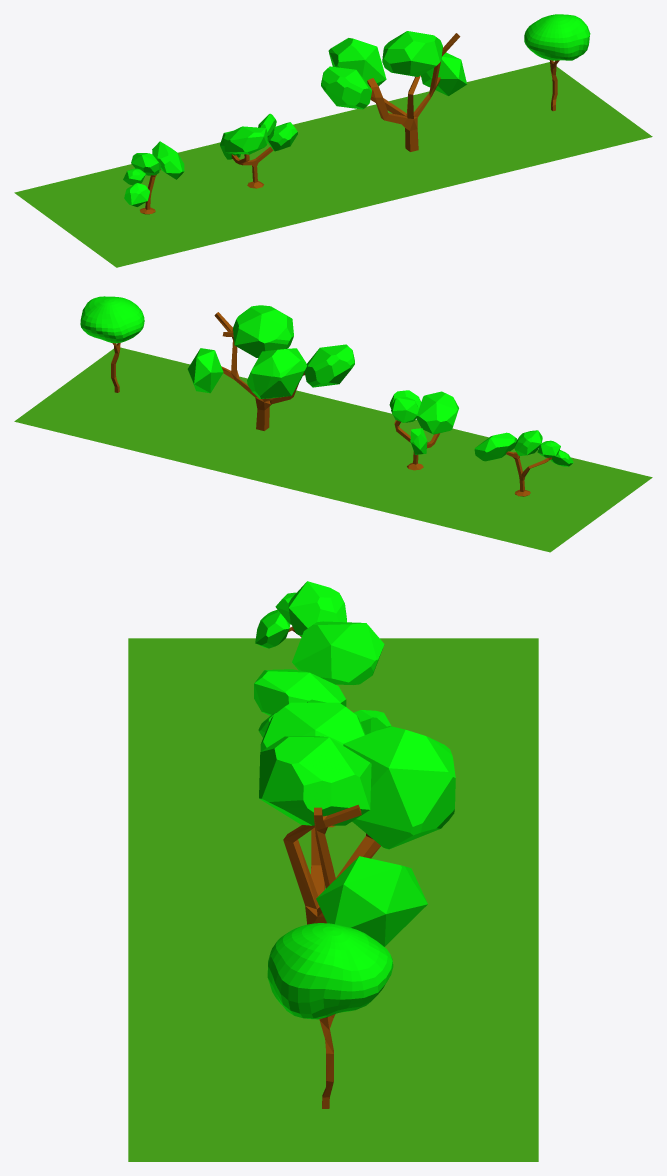
Rendered from 3d_model_low_polly_tree.glb.
3 views of the same model, one above another, from view 1: azimuth 30°, elevation 25°; view 2: azimuth 150°, elevation 25°; view 3: azimuth 270°, elevation 25° (orthographic). The views are drawn at different scales.
Visible parts, largest first — view 1: grass, Sphere, Icosphere.011, tree 3, Icosphere.013, Icosphere.009, Icosphere.015, tree 1.001, Icosphere.007, tree 1.008, tree 1, Icosphere.005 (+1 smaller); view 2: grass, Icosphere.011, Sphere, Icosphere.013, Icosphere.009, tree 1.001, tree 3, Icosphere.015, Icosphere.007, tree 1.006, Icosphere.005, tree 2 (+2 smaller); view 3: grass, Icosphere.013, Sphere, Icosphere.011, Icosphere.015, Icosphere.007, tree 3, Icosphere.009, tree 1.001, Icosphere.005, Icosphere.003.
Boxes of the visible parts, <box> form: grass: <box>14,62,652,267</box>; Sphere: <box>524,14,590,60</box>; Icosphere.011: <box>382,31,442,76</box>; tree 3: <box>367,33,460,151</box>; Icosphere.013: <box>328,38,386,86</box>; Icosphere.009: <box>321,66,371,109</box>; Icosphere.015: <box>421,52,467,95</box>; tree 1.001: <box>224,126,267,154</box>; Icosphere.007: <box>152,141,184,179</box>; tree 1.008: <box>267,122,297,151</box>; tree 1: <box>231,146,273,188</box>; Icosphere.005: <box>131,153,161,175</box>; grass: <box>14,347,652,552</box>; Icosphere.011: <box>233,305,293,357</box>; Sphere: <box>80,296,144,343</box>; Icosphere.013: <box>247,348,306,398</box>; Icosphere.009: <box>304,344,354,387</box>; tree 1.001: <box>416,391,458,434</box>; tree 3: <box>214,312,304,430</box>; Icosphere.015: <box>187,348,223,393</box>; Icosphere.007: <box>474,432,517,461</box>; tree 1.006: <box>391,397,418,422</box>; Icosphere.005: <box>514,430,542,455</box>; tree 2: <box>506,451,551,496</box>; grass: <box>128,638,538,1161</box>; Icosphere.013: <box>343,726,455,849</box>; Sphere: <box>267,923,393,1019</box>; Icosphere.011: <box>259,736,371,825</box>; Icosphere.015: <box>316,856,427,946</box>; Icosphere.007: <box>292,621,384,684</box>; tree 3: <box>283,804,380,924</box>; Icosphere.009: <box>260,702,365,751</box>; tree 1.001: <box>254,669,346,715</box>; Icosphere.005: <box>288,581,346,636</box>; Icosphere.003: <box>255,609,290,648</box>.
Size of the model in its own units: 20.47 by 4.29 by 6.78.
